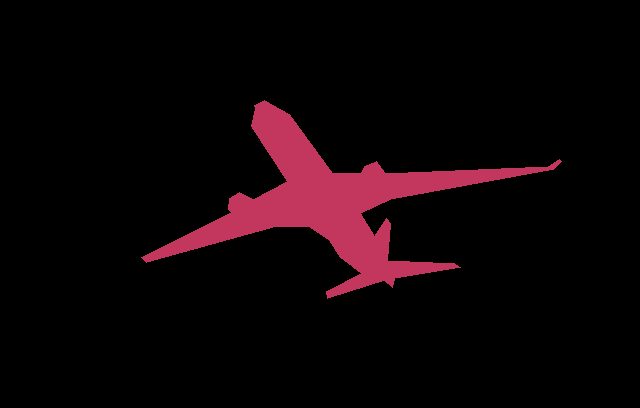Airplane: (141, 100, 561, 298)
